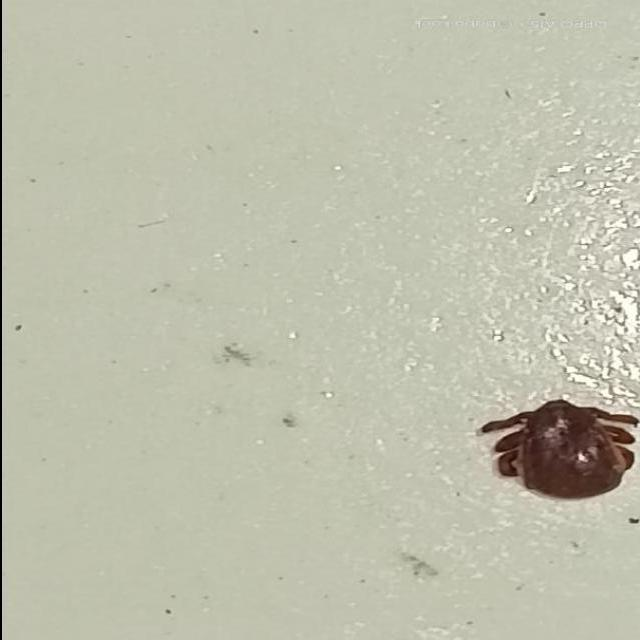Rhipicephalus Sanguineus-M: (475, 396, 638, 501)
